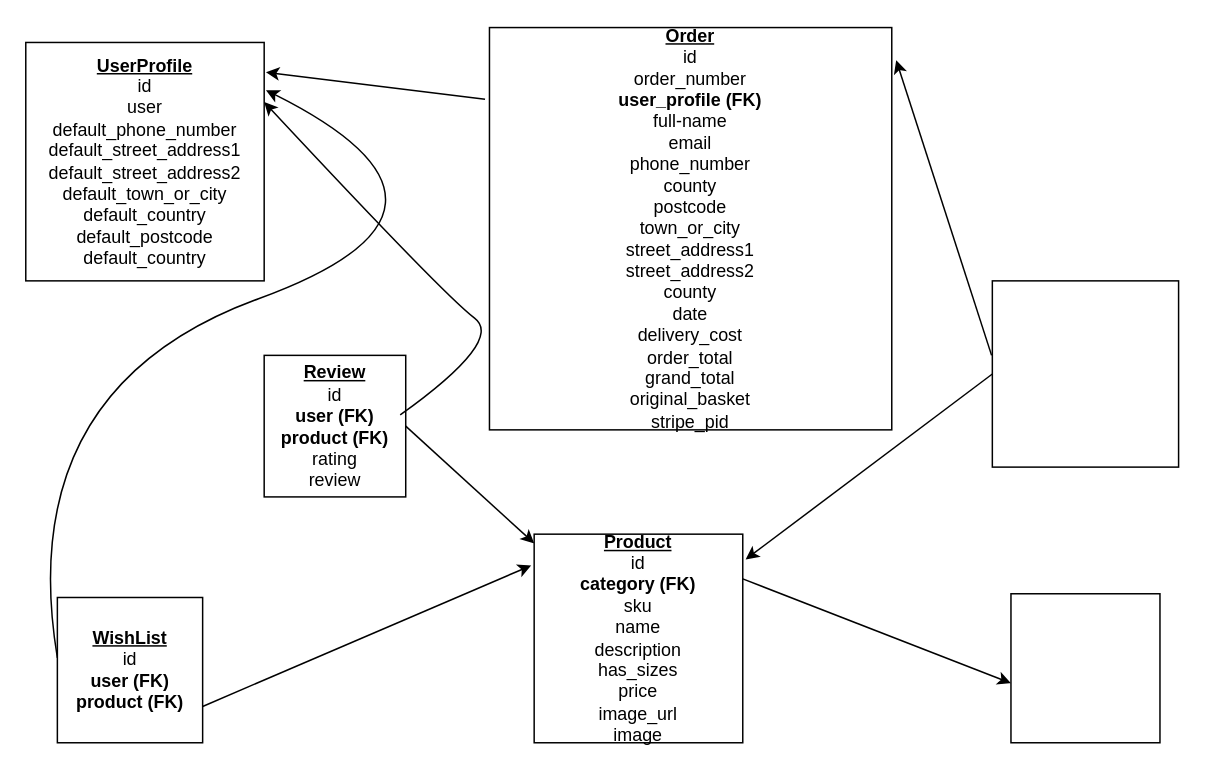
Some shapes in this 1205 by 772 pixel diagram are drawn without their labels. The shapes that lost their labels are listed below. From the top down, each one's box as (x1, y1, x2, y2) in pixels, then its label:
(991, 279, 1179, 467): OrderLineItem id order (FK) product (FK) product_size quantity lineitem_total
(1009, 592, 1160, 743): Category id name friendly_name
